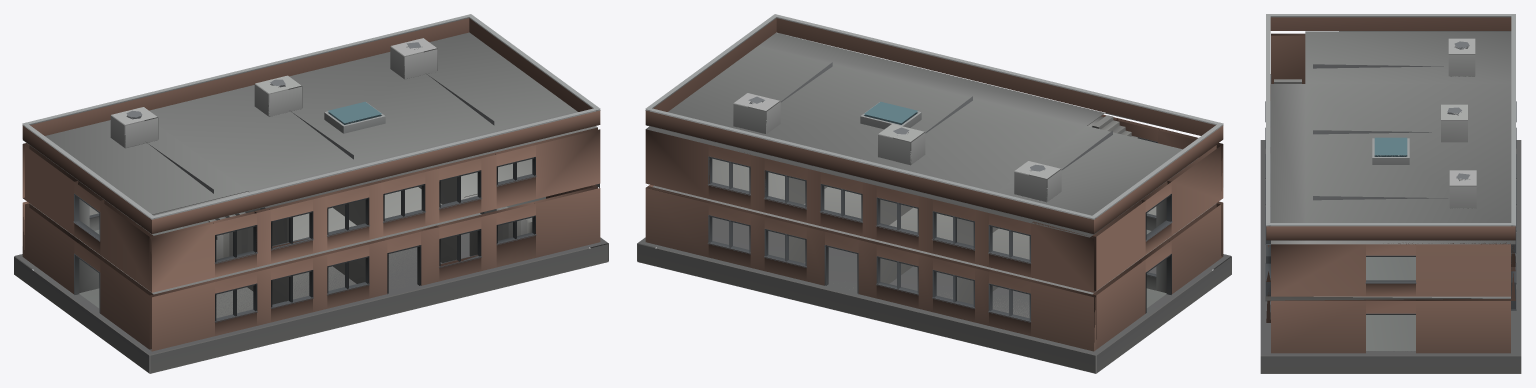
The model's file is lab_mid.lod.glb.
3 views of the same model, side by side, from view 1: azimuth 30°, elevation 25°; view 2: azimuth 150°, elevation 25°; view 3: azimuth 270°, elevation 25° (orthographic). The views are drawn at different scales.
Visible parts, largest first — view 1: lab_mid; view 2: lab_mid; view 3: lab_mid.
Boxes of the visible parts, left/top/right/bottom form: lab_mid: left=14, top=14, right=608, bottom=373; lab_mid: left=637, top=14, right=1231, bottom=373; lab_mid: left=1260, top=14, right=1521, bottom=373.
Size of the model in its own units: 32.8 by 11.02 by 16.8.
